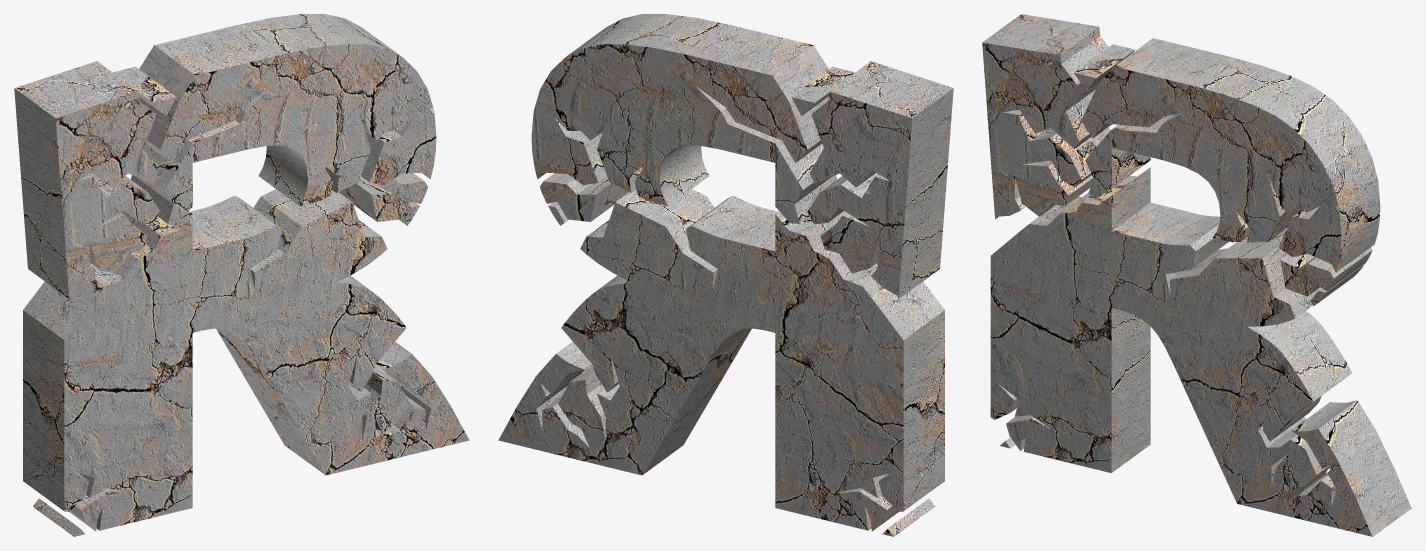
The picture shows the model from 3 angles, left to right: view 1: azimuth 30°, elevation 25°; view 2: azimuth 150°, elevation 25°; view 3: azimuth 330°, elevation 25°; orthographic projection. The views are drawn at different scales.
Parts seen in each view (by area): view 1: R; view 2: R; view 3: R.
Part boxes in pixels (bbox=[...]): R: bbox=[14, 14, 469, 536]; R: bbox=[498, 14, 953, 536]; R: bbox=[982, 14, 1411, 536].
Size of the model in its own units: 86.67 by 86.36 by 15.
Materials: 1 (1 with a texture image).
